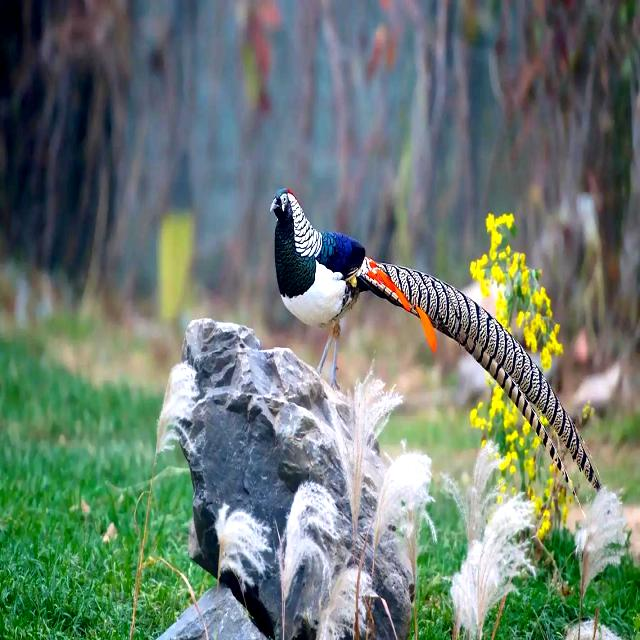Chrysolophus amherstiae: (345, 257, 600, 489)
